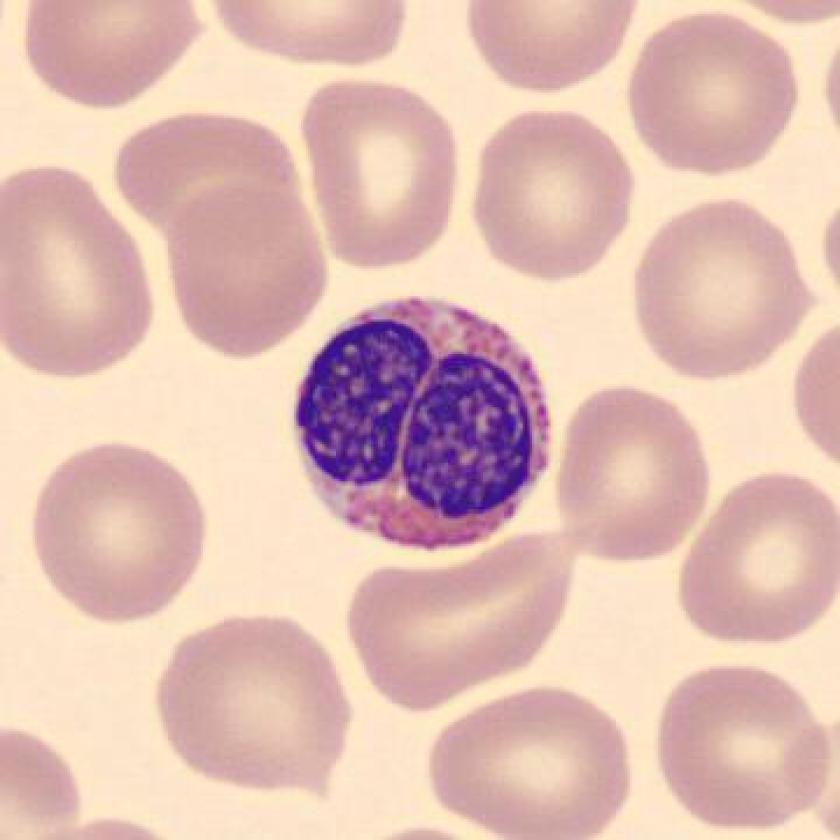eosinophil: (284, 286, 564, 566)
